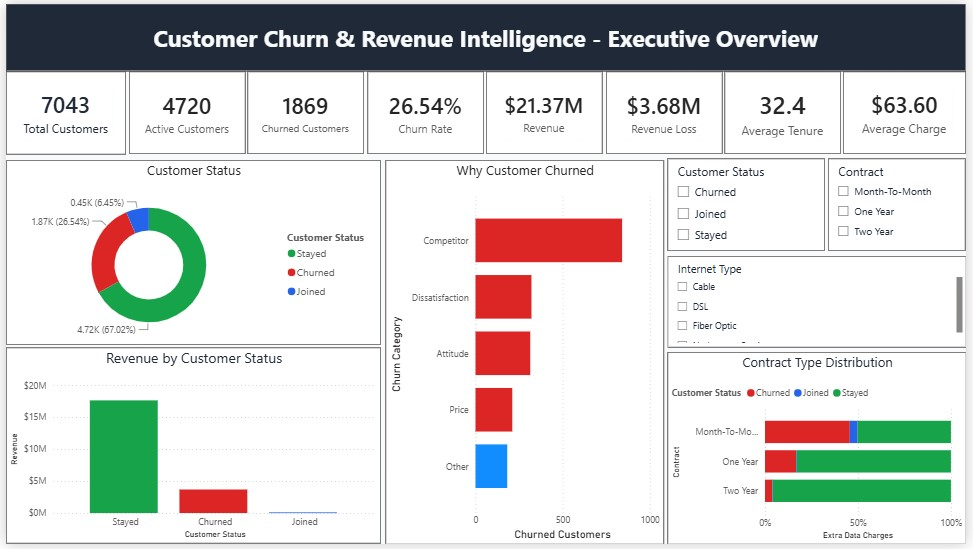

The dashboard page shown, as its layout file describes it:
{"tool":"powerbi","page":{"name":"Executive_Overview","canvas":[1280,720],"ordinal":0},"visuals":[{"type":"shape","box":[0,0,1280,90],"z":0},{"type":"cardVisual","fields":{"Data":["Table1_1.Total Customers"]},"box":[0,90,160,110.9],"z":1000},{"type":"cardVisual","fields":{"Data":["Table1_1.Churn Rate"]},"box":[481.5,90.6,155,110],"z":2000},{"type":"cardVisual","fields":{"Data":["Table1_1.Churned Customers"]},"box":[322.7,90.6,155,110],"z":3000},{"type":"cardVisual","fields":{"Data":["Table1_1.Active Customers"]},"box":[163.8,90.6,155,110],"z":4000},{"type":"cardVisual","fields":{"Data":["Table1_1.Revenue"]},"box":[640.4,90.6,155,110],"z":5000},{"type":"cardVisual","fields":{"Data":["Table1_1.Revenue Loss"]},"box":[799.2,90.6,155,110],"z":6000},{"type":"cardVisual","fields":{"Data":["Table1_1.Average Monthly Charge"]},"box":[1116,90,164,110],"z":7000},{"type":"cardVisual","fields":{"Data":["Table1_1.Average Tenure"]},"box":[958.1,90.6,155,110],"z":8000},{"type":"donutChart","title":"Customer Status","fields":{"Category":["Table1_1.Customer Status"],"Y":["CountNonNull(Table1_1.Customer Status)"]},"box":[0,207.3,500,246.4],"z":9000},{"type":"clusteredColumnChart","fields":{"Y":["Table1_1.Revenue"],"Category":["Table1_1.Customer Status"]},"box":[0,458.9,500,261.1],"z":10000},{"type":"clusteredBarChart","title":"Why Customer Churned","fields":{"Category":["Table1_1.Churn Category"],"Y":["Table1_1.Churned Customers"]},"box":[505,207.1,371.4,512.9],"z":11000},{"type":"hundredPercentStackedBarChart","title":"Contract Type Distribution","fields":{"Category":["Table1_1.Contract"],"Y":["Sum(Table1_1.Total Extra Data Charges)"],"Series":["Table1_1.Customer Status"]},"box":[881.1,463.3,398.9,256.7],"z":12000},{"type":"slicer","fields":{"Values":["Table1_1.Customer Status"]},"box":[881.1,206.7,210,123.3],"z":13000},{"type":"slicer","fields":{"Values":["Table1_1.Contract"]},"box":[1096.7,206.7,183.3,123.3],"z":14000},{"type":"slicer","fields":{"Values":["Table1_1.Internet Type"]},"box":[881.1,336.7,398.9,122.2],"z":15000}]}

Visuals, with their boxes in screenshot pixels (x1, y1, x2, y2), scaled from the page's 1280x720 canvas onto the 973x549 screenshot:
shape: crop(0, 0, 972, 69)
cardVisual - Table1_1.Total Customers: crop(0, 69, 122, 153)
cardVisual - Table1_1.Churn Rate: crop(366, 69, 484, 153)
cardVisual - Table1_1.Churned Customers: crop(245, 69, 363, 153)
cardVisual - Table1_1.Active Customers: crop(125, 69, 242, 153)
cardVisual - Table1_1.Revenue: crop(487, 69, 605, 153)
cardVisual - Table1_1.Revenue Loss: crop(608, 69, 725, 153)
cardVisual - Table1_1.Average Monthly Charge: crop(848, 69, 972, 152)
cardVisual - Table1_1.Average Tenure: crop(728, 69, 846, 153)
"Customer Status" donutChart: crop(0, 158, 380, 346)
clusteredColumnChart - Table1_1.Revenue x Table1_1.Customer Status: crop(0, 350, 380, 548)
"Why Customer Churned" clusteredBarChart: crop(384, 158, 666, 548)
"Contract Type Distribution" hundredPercentStackedBarChart: crop(670, 353, 972, 548)
slicer - Table1_1.Customer Status: crop(670, 158, 829, 252)
slicer - Table1_1.Contract: crop(834, 158, 972, 252)
slicer - Table1_1.Internet Type: crop(670, 257, 972, 350)
